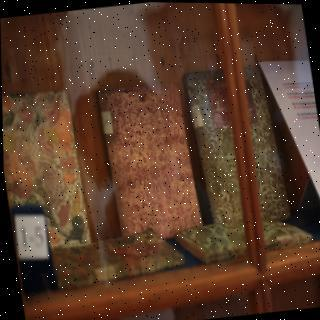book: (95, 78, 202, 239)
